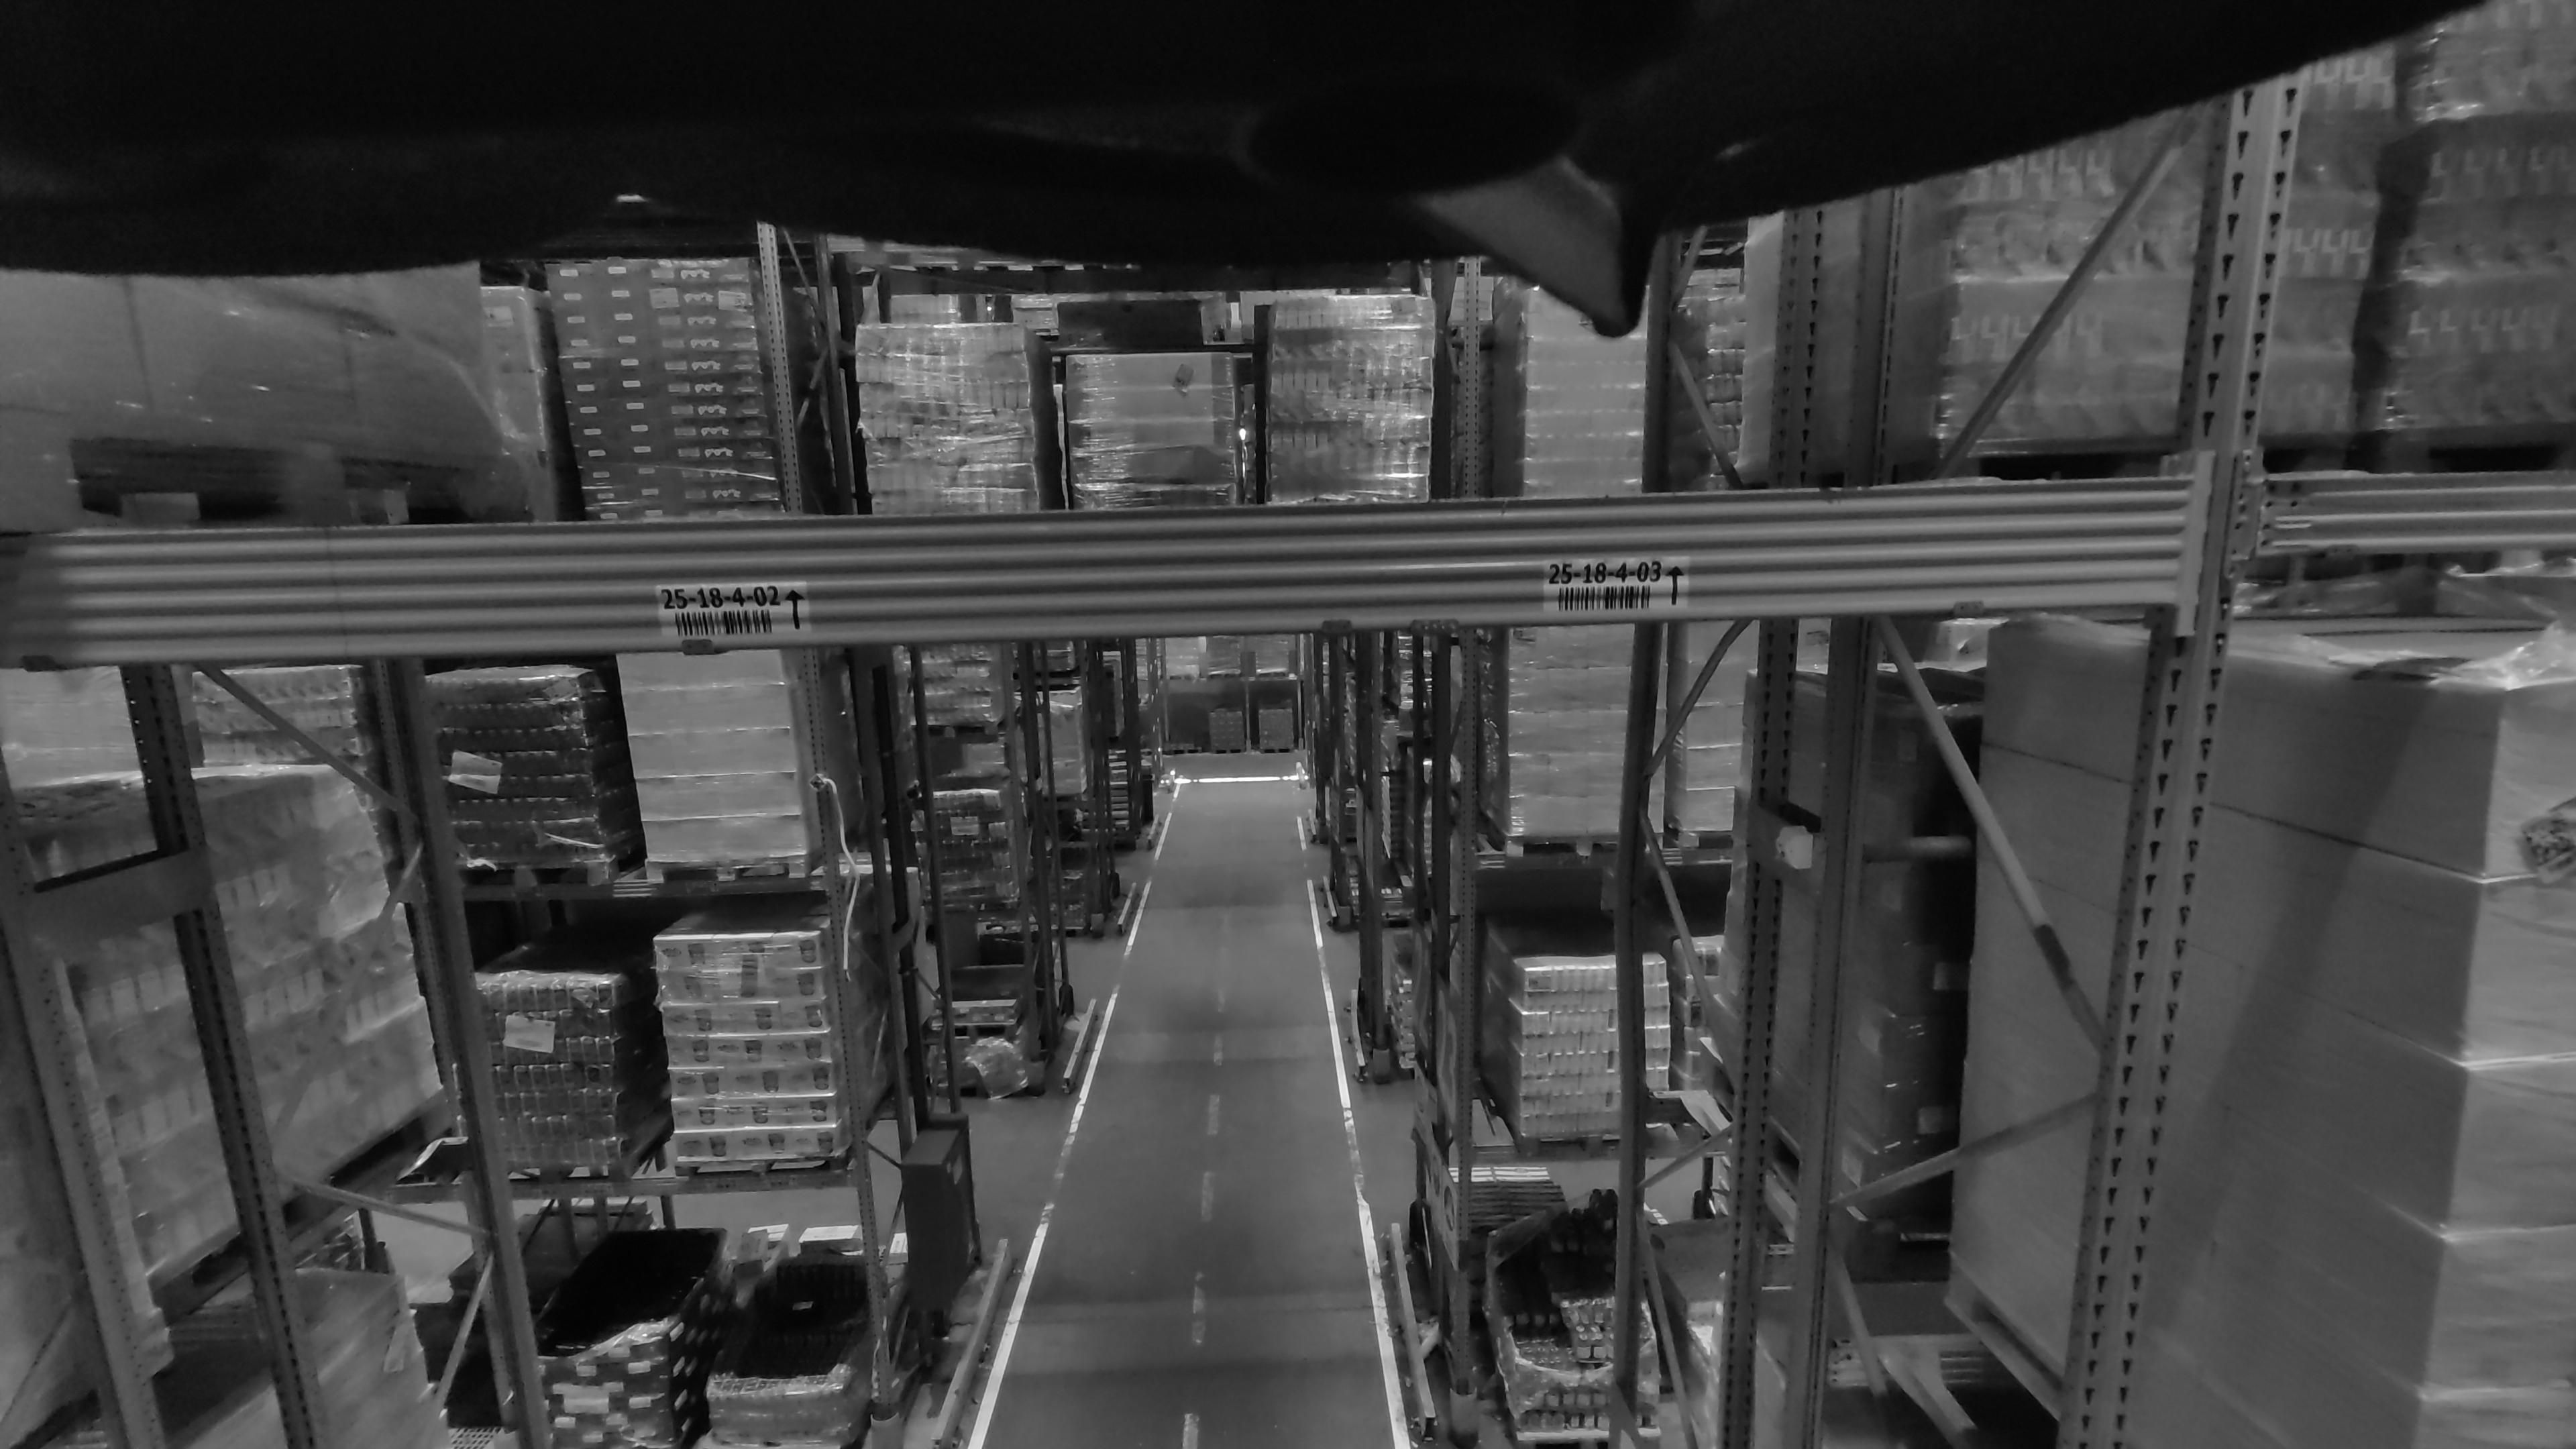empty-shelf: (255, 214, 1145, 506), (1185, 221, 2120, 476)
